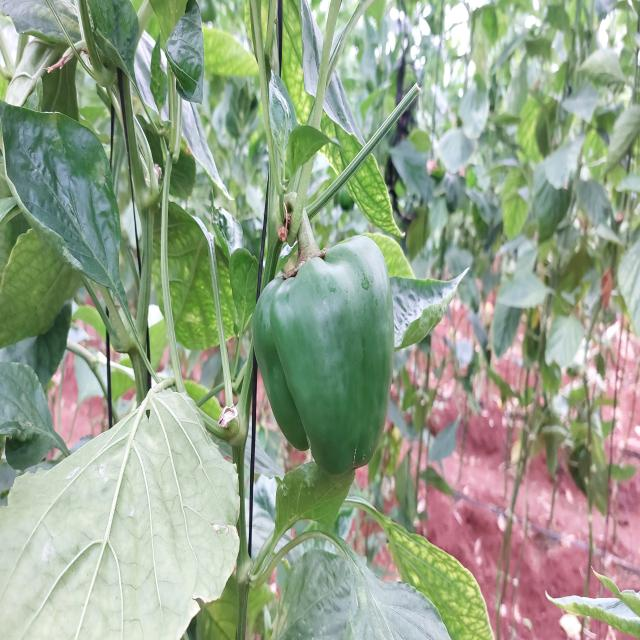Green--Not-ready-to-harvest: (253, 253, 393, 484)
